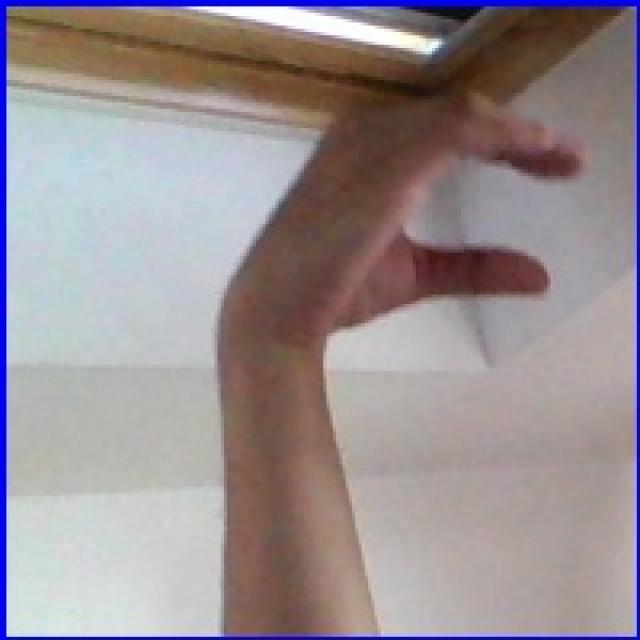Letra C: (195, 76, 594, 396)
